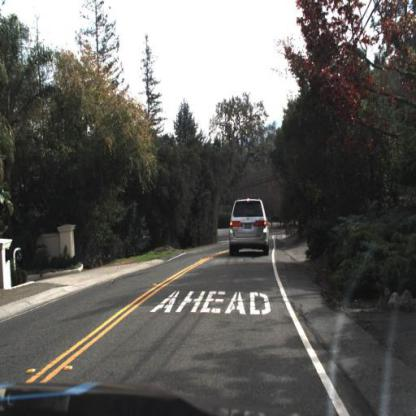car: (220, 197, 278, 260)
